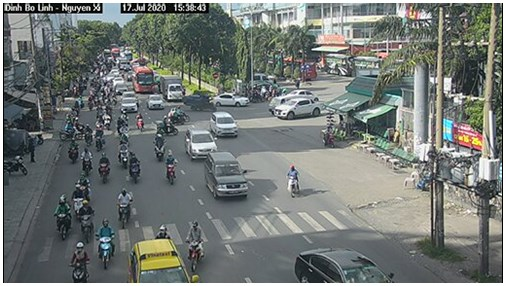xe_ba_gac: (183, 89, 215, 110)
xe_ban_tai: (273, 98, 324, 121)
xe_buyt: (131, 64, 157, 94)
xe_hoi: (205, 152, 252, 201), (183, 127, 220, 161), (209, 108, 239, 140), (210, 92, 253, 109), (119, 96, 138, 111)
xe_may: (184, 213, 207, 270), (68, 237, 92, 283), (96, 217, 116, 269), (53, 191, 73, 241), (115, 186, 134, 228), (78, 198, 95, 241), (96, 152, 114, 186), (153, 114, 179, 137), (164, 147, 179, 184), (286, 164, 301, 200), (116, 137, 131, 170), (166, 106, 191, 125), (79, 146, 94, 176), (76, 173, 92, 201), (129, 151, 143, 182), (67, 137, 79, 165), (94, 126, 108, 150), (153, 132, 164, 161), (134, 110, 146, 135)
